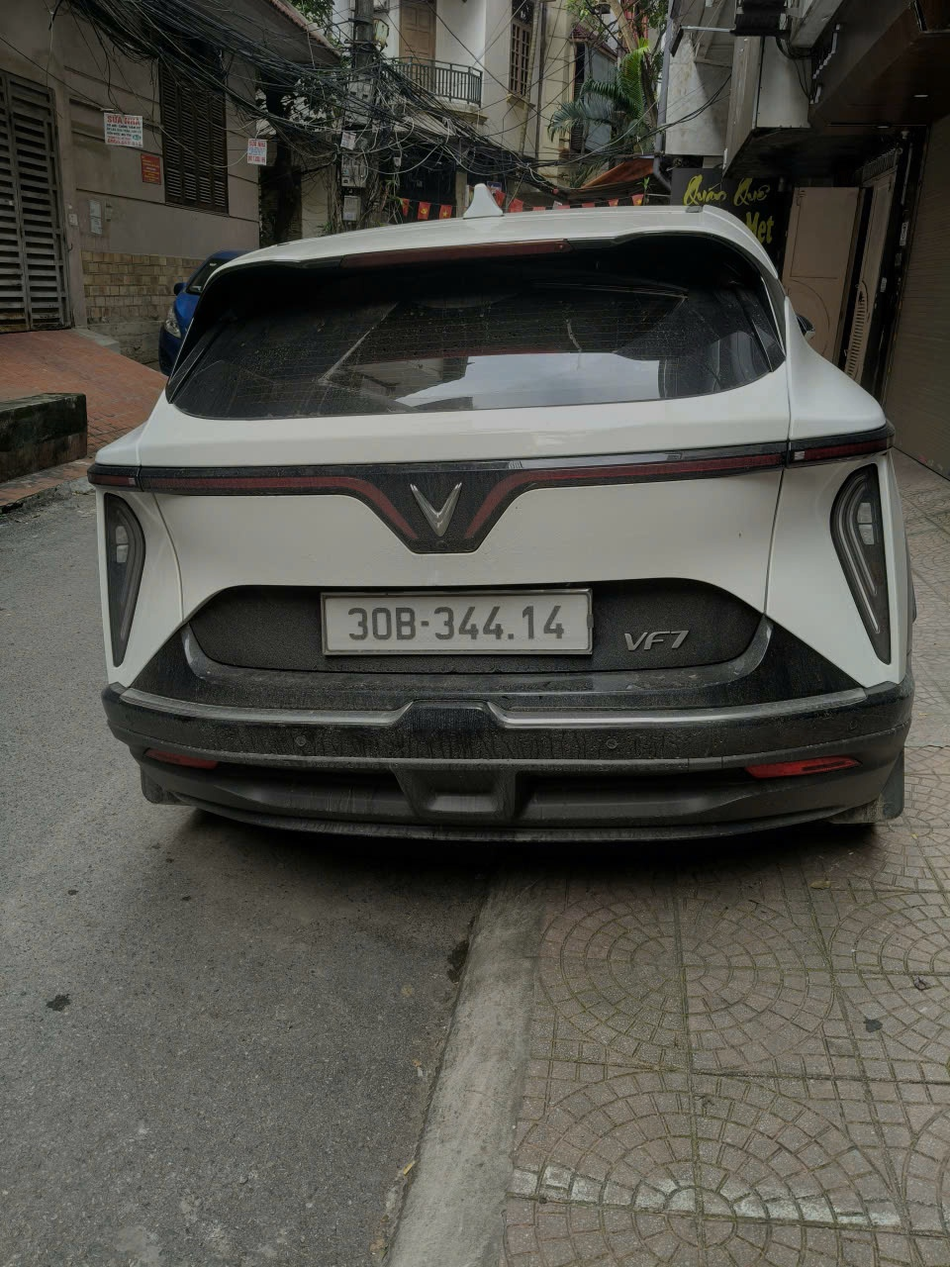plate: (788, 427, 889, 462)
